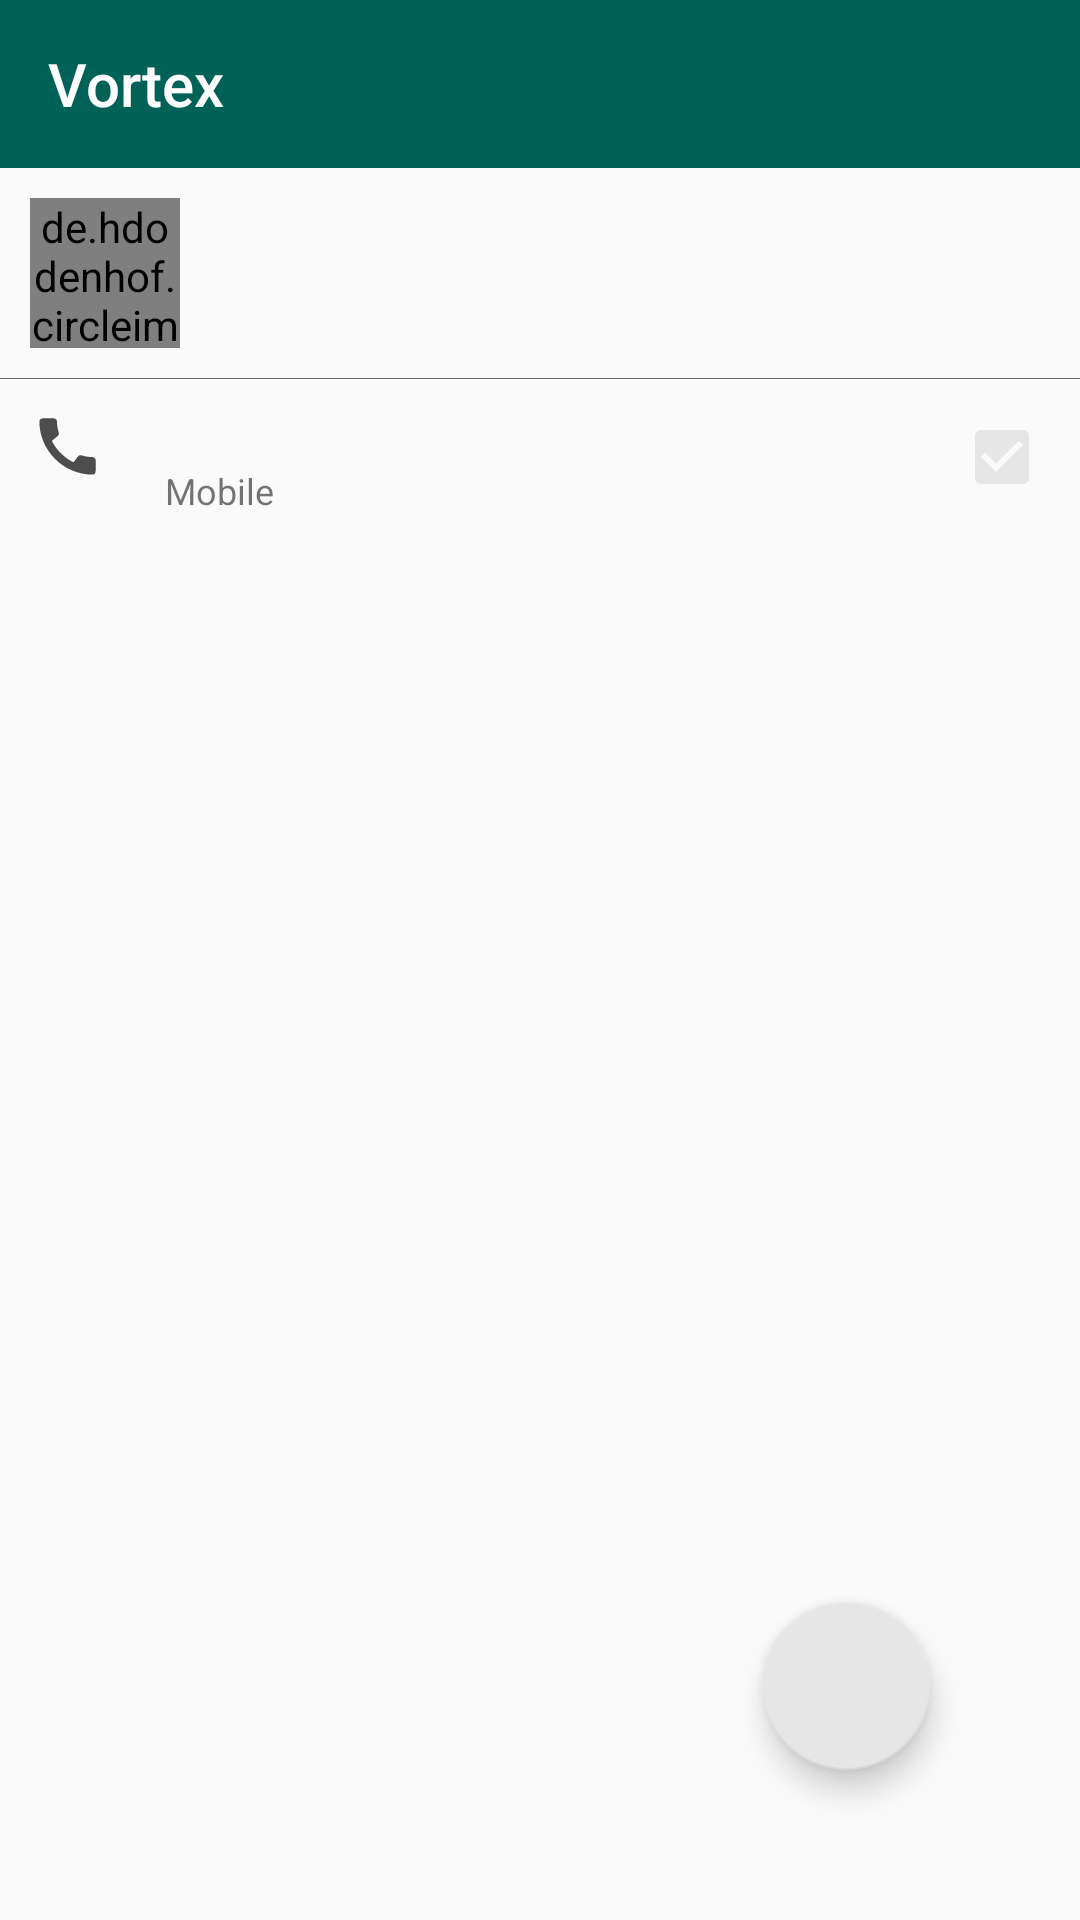

Where to tap for icons on this 1080*1920 app screen, as [x,y]:
call: [67,446]
